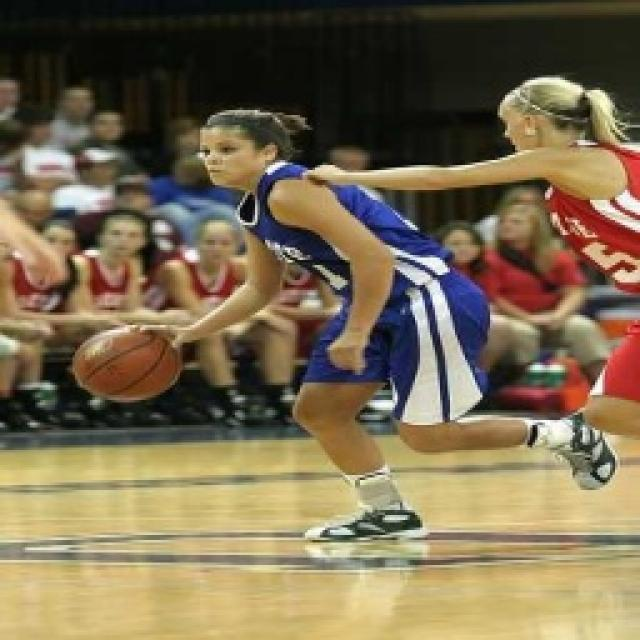rim: (69, 315, 192, 412)
